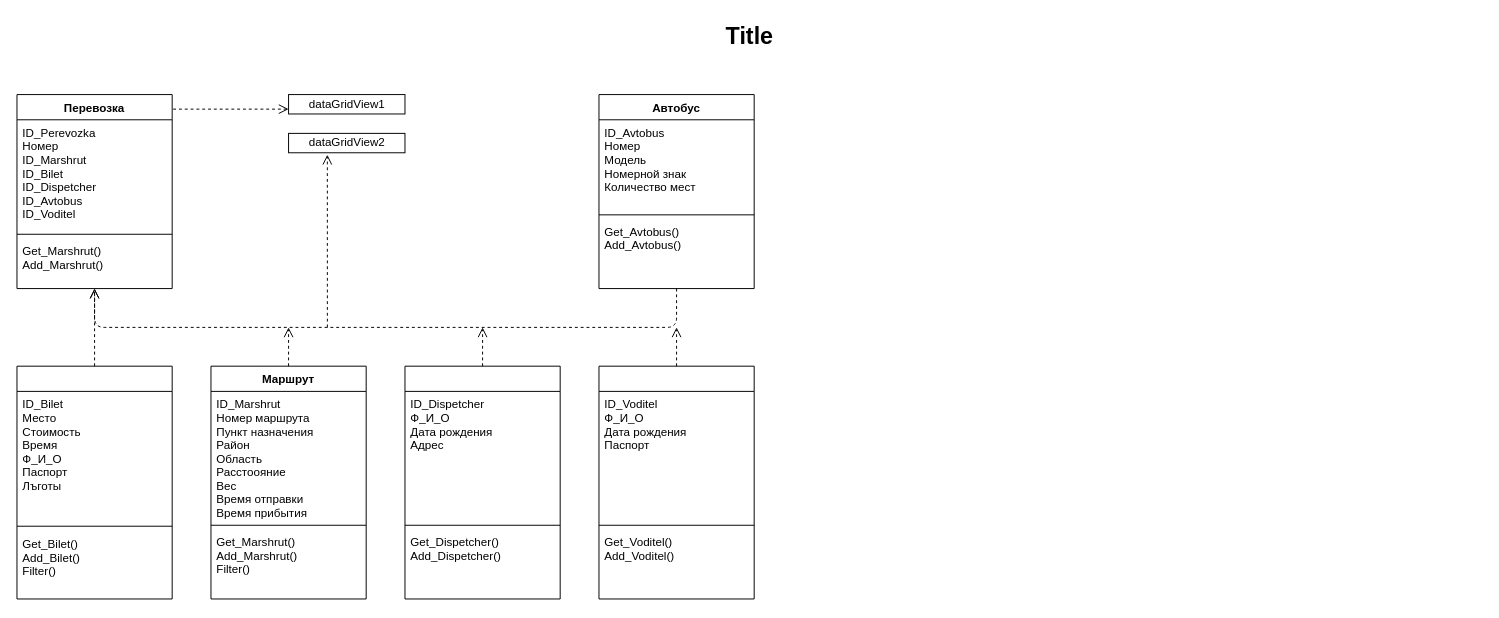
This 1499x618 diagram has some shape labels left out. The shapes that lost their labels are listed below. From the top down, each one's box as (x1, y1, x2, y2) in pixels, then its label:
(16, 365, 172, 599): Билет
(404, 365, 560, 599): Диспетчер
(598, 365, 754, 599): Водитель
